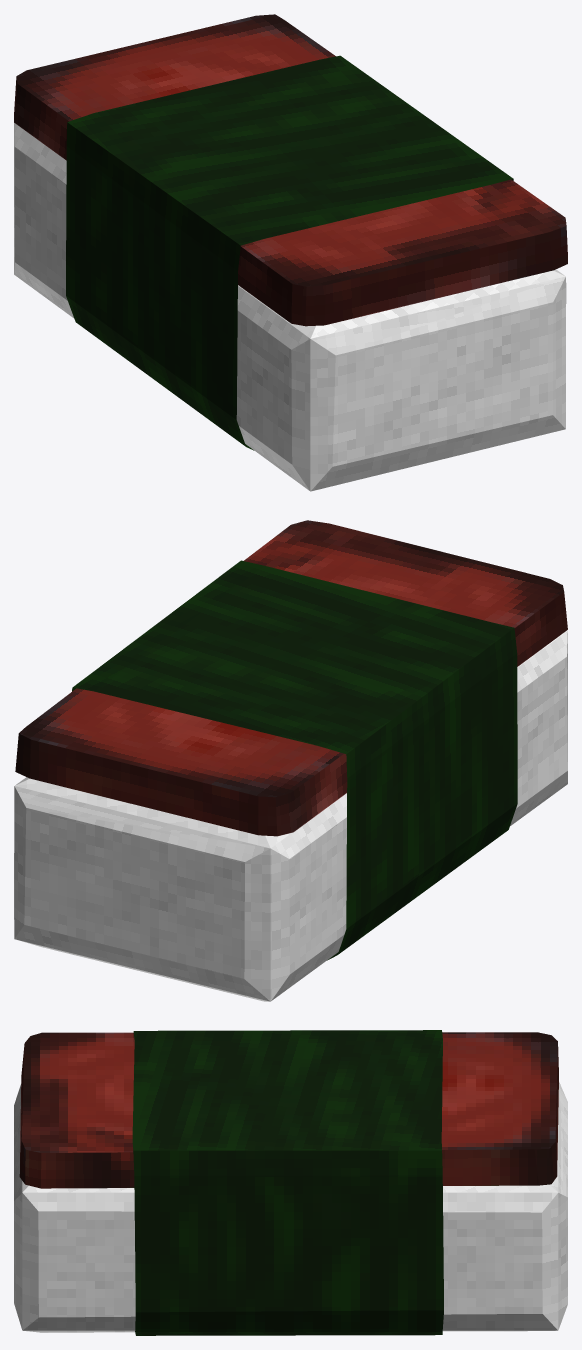
Rendered from spam_musubi.glb.
3 renders of one model, top to bottom at view 1: azimuth 30°, elevation 25°; view 2: azimuth 150°, elevation 25°; view 3: azimuth 270°, elevation 25°, orthographic. The views are drawn at different scales.
Visible parts, largest first — view 1: Nori_2, RiceRectangle_0, Spam_1; view 2: Nori_2, RiceRectangle_0, Spam_1; view 3: Nori_2, RiceRectangle_0, Spam_1.
Part boxes in pixels (box(x1,y1,x2,y2)): Nori_2: box(66, 55, 513, 450); RiceRectangle_0: box(14, 123, 566, 491); Spam_1: box(14, 14, 567, 326); Nori_2: box(72, 560, 517, 960); RiceRectangle_0: box(14, 630, 567, 1001); Spam_1: box(15, 520, 567, 836); Nori_2: box(132, 1030, 443, 1335); RiceRectangle_0: box(14, 1082, 567, 1332); Spam_1: box(19, 1032, 558, 1188).
Bounding box in the file's own units: 0.4789 × 0.3547 × 0.9086.
3 materials, 3 textured.
